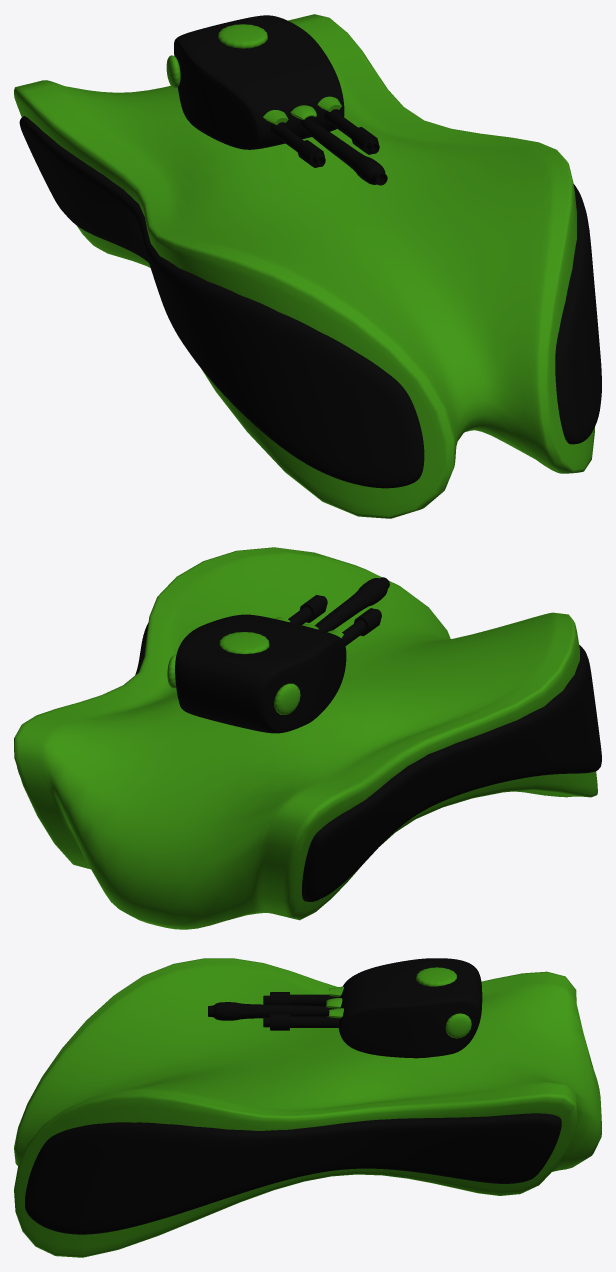
File: Cruiser_Green.FBX
3 renders of one model, top to bottom at view 1: azimuth 30°, elevation 25°; view 2: azimuth 150°, elevation 25°; view 3: azimuth 270°, elevation 25°, orthographic. The views are drawn at different scales.
Visible parts, largest first — view 1: Box023; view 2: Box023; view 3: Box023.
Part boxes in pixels (box(x1,y1,x2,y2)): Box023: box(14, 14, 601, 518); Box023: box(14, 547, 601, 929); Box023: box(14, 958, 601, 1257).
Bounding box in the file's own units: 698 × 483 × 1091.
